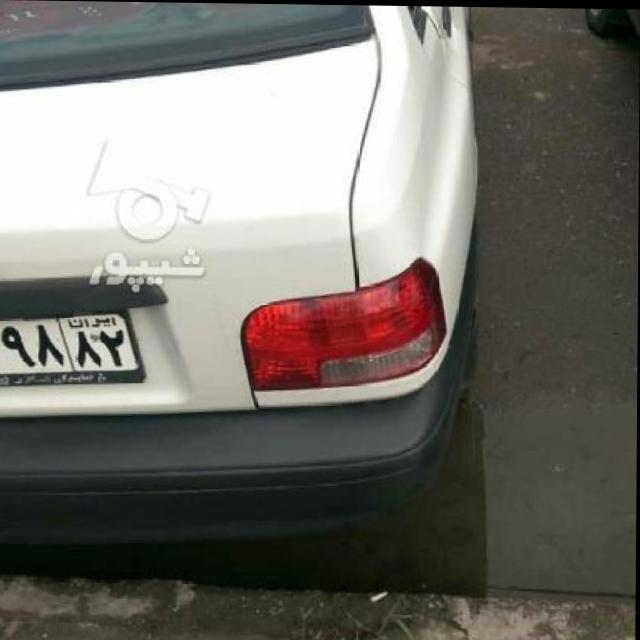licence: (0, 306, 147, 386)
